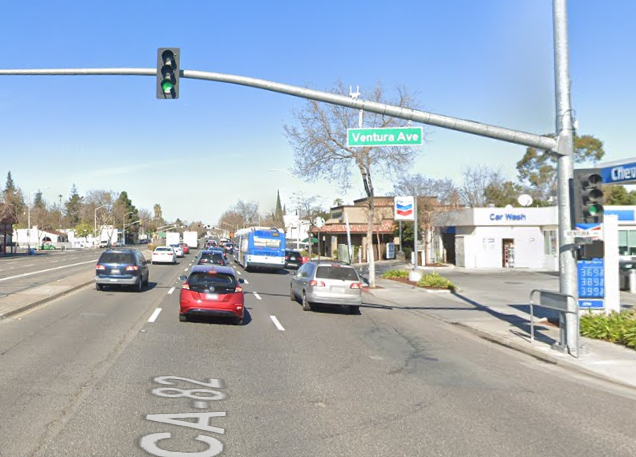green_light: (576, 171, 603, 223), (158, 47, 178, 98)
